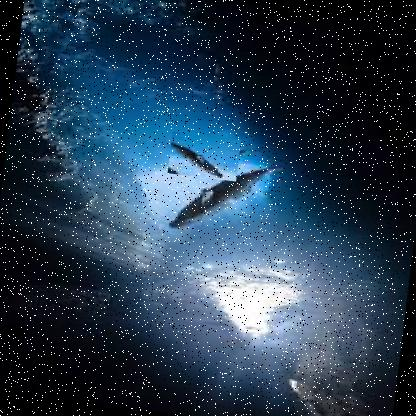blue_whale: (138, 131, 300, 249), (167, 130, 242, 181)
